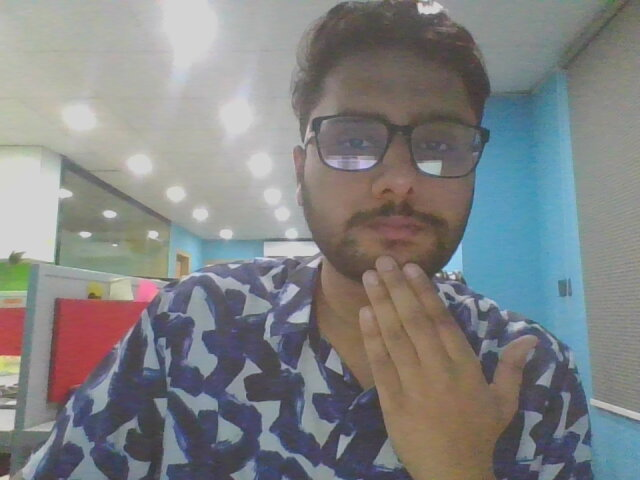thanks: (339, 250, 546, 478)
